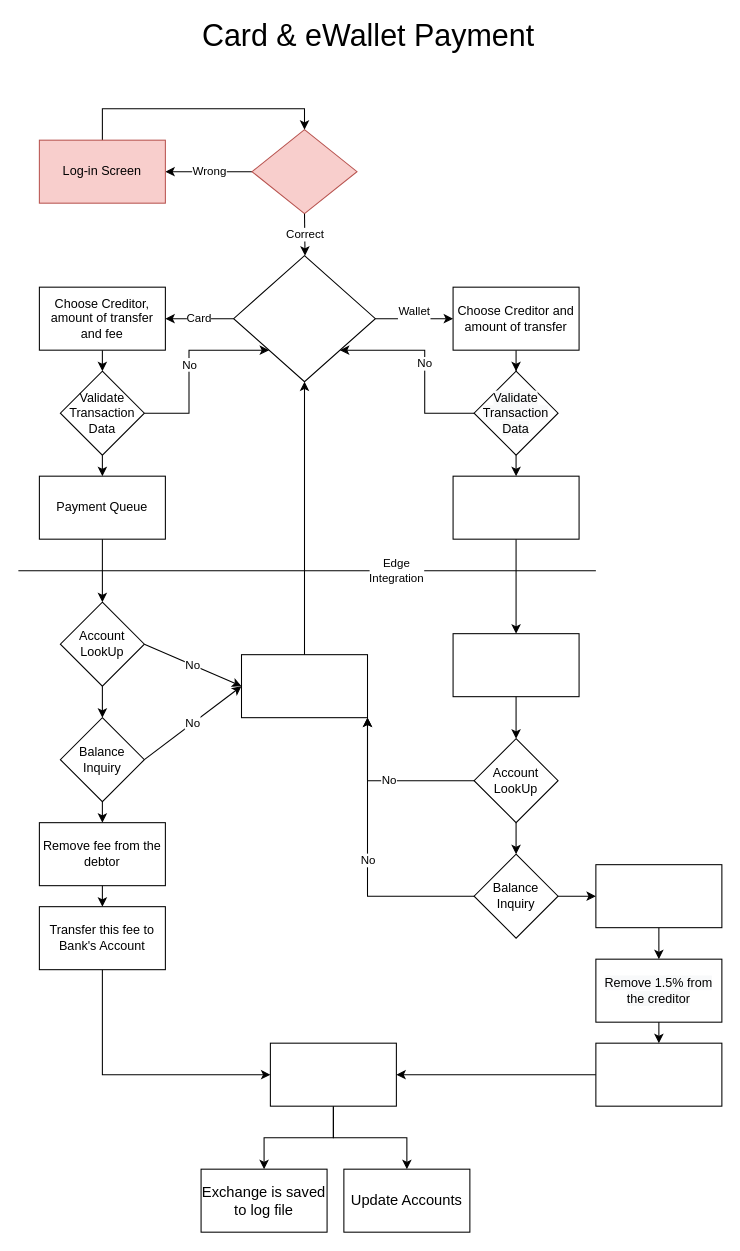
Image size: 740x1251. Some labels were removed from this diagram. Here are the shapes that lost their labels. From the top down, the centre of each, then its label:
(x=304, y=171): Check username & password
(x=304, y=318): Card or Wallet
(x=515, y=507): Wallet Queue
(x=515, y=665): Calculate Fee
(x=304, y=686): Transfer rejected
(x=658, y=896): Remove 1.5% from the debtor
(x=332, y=1074): Transfer the amount from Deptor to Creditor
(x=658, y=1074): Transfer this 3% to Bank's Account
